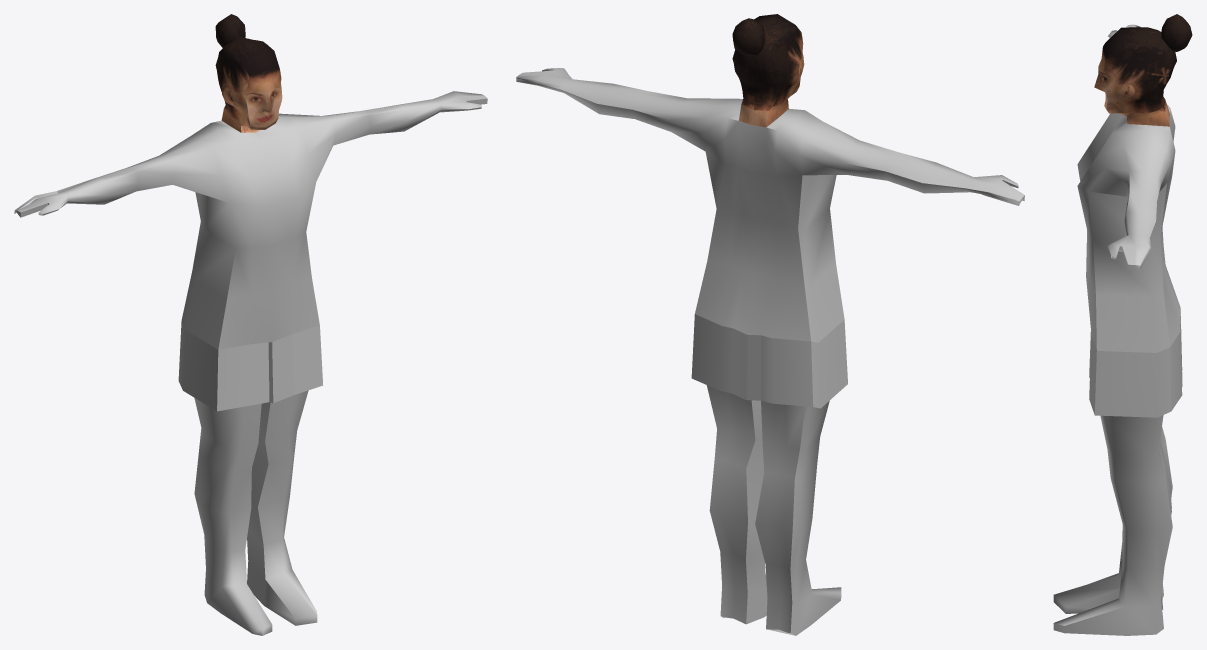
File: smoothgirl.fbx
The picture shows the model from 3 angles, left to right: view 1: azimuth 30°, elevation 25°; view 2: azimuth 150°, elevation 25°; view 3: azimuth 270°, elevation 25°; orthographic projection. The views are drawn at different scales.
Visible parts, largest first — view 1: Cube.001; view 2: Cube.001; view 3: Cube.001.
Part boxes in pixels (box(x1,y1,x2,y2)): Cube.001: box(14, 14, 487, 635); Cube.001: box(516, 14, 1024, 635); Cube.001: box(1053, 14, 1192, 635).
Bounding box in the file's own units: 431 × 506 × 105.
